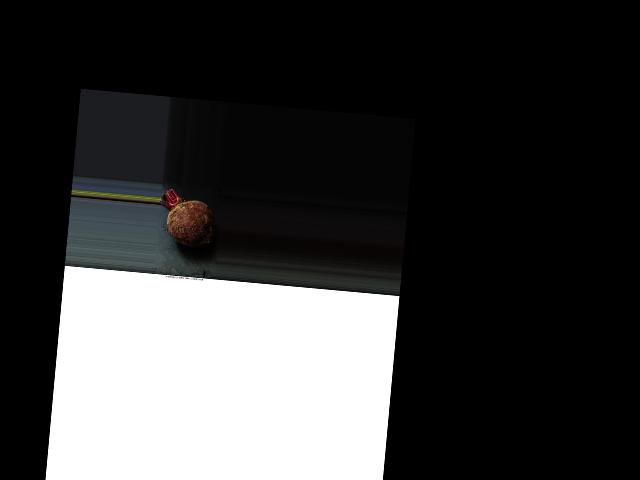beet: (156, 188, 217, 248)
